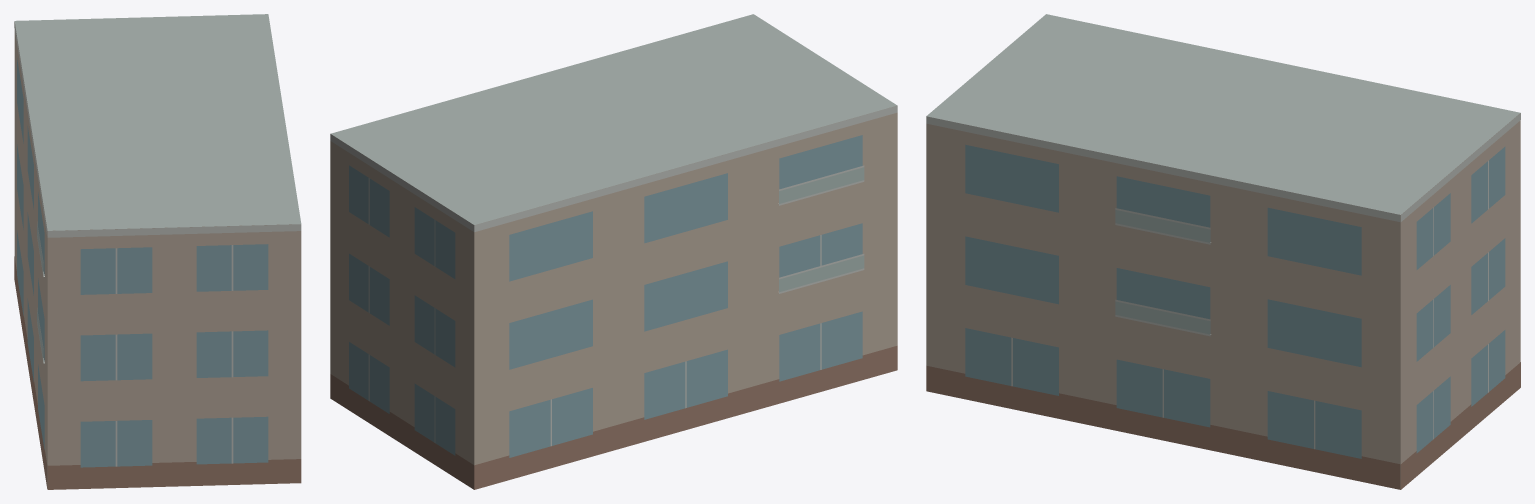
Rendered from survey-upis-32697216.glb.
3 renders of one model, left to right at view 1: azimuth 30°, elevation 25°; view 2: azimuth 150°, elevation 25°; view 3: azimuth 270°, elevation 25°, orthographic. The views are drawn at different scales.
Parts seen in each view (by area): view 1: survey-upis-32697216.tmp; view 2: survey-upis-32697216.tmp; view 3: survey-upis-32697216.tmp.
Boxes of the visible parts, x1,y1,x2,y2 form: survey-upis-32697216.tmp: (14,14,301,489); survey-upis-32697216.tmp: (330,14,897,489); survey-upis-32697216.tmp: (926,14,1520,489).
Bounding box in the file's own units: 14.35 × 9.15 × 17.94.
